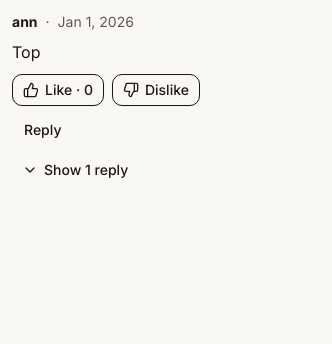
Test case: CommentThread › shows an error row with Retry when loading fails, then recovers
The width and height of the screenshot is (332, 344).
Click the button "Show 1 reply".
click(75, 170)  # box [12,154,138,186]
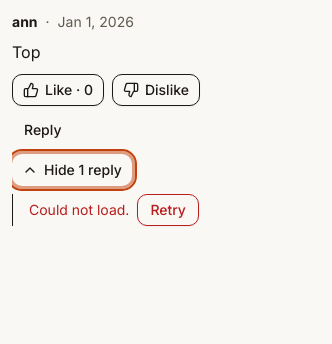
Now the message shows "Could not load.", box [29,201,129,218]
Click the button "Retry".
click(168, 210)  # box [137,194,199,226]
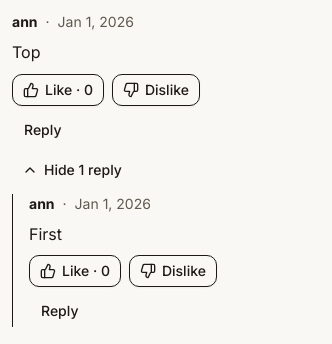
Now the text "First" is shown, box [29,224,62,244]
